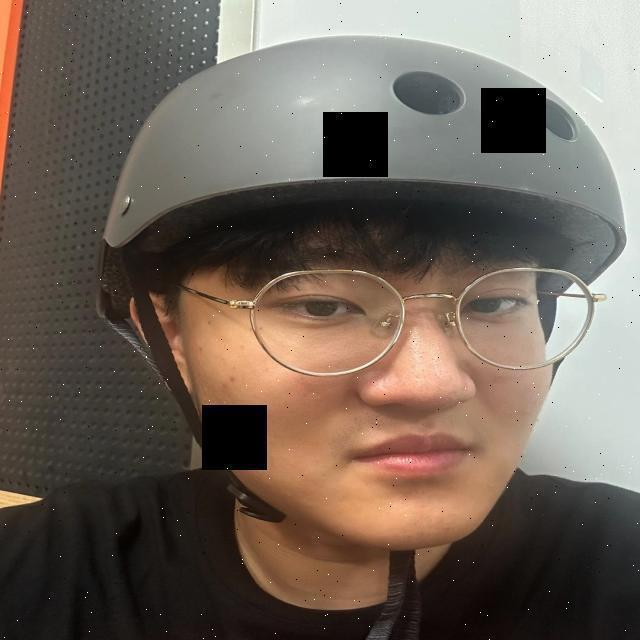helmet: (90, 28, 628, 640)
